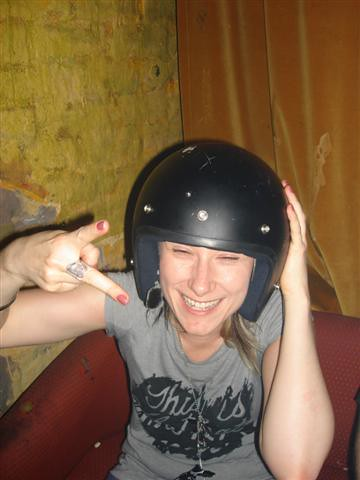helmet: (112, 134, 310, 246)
